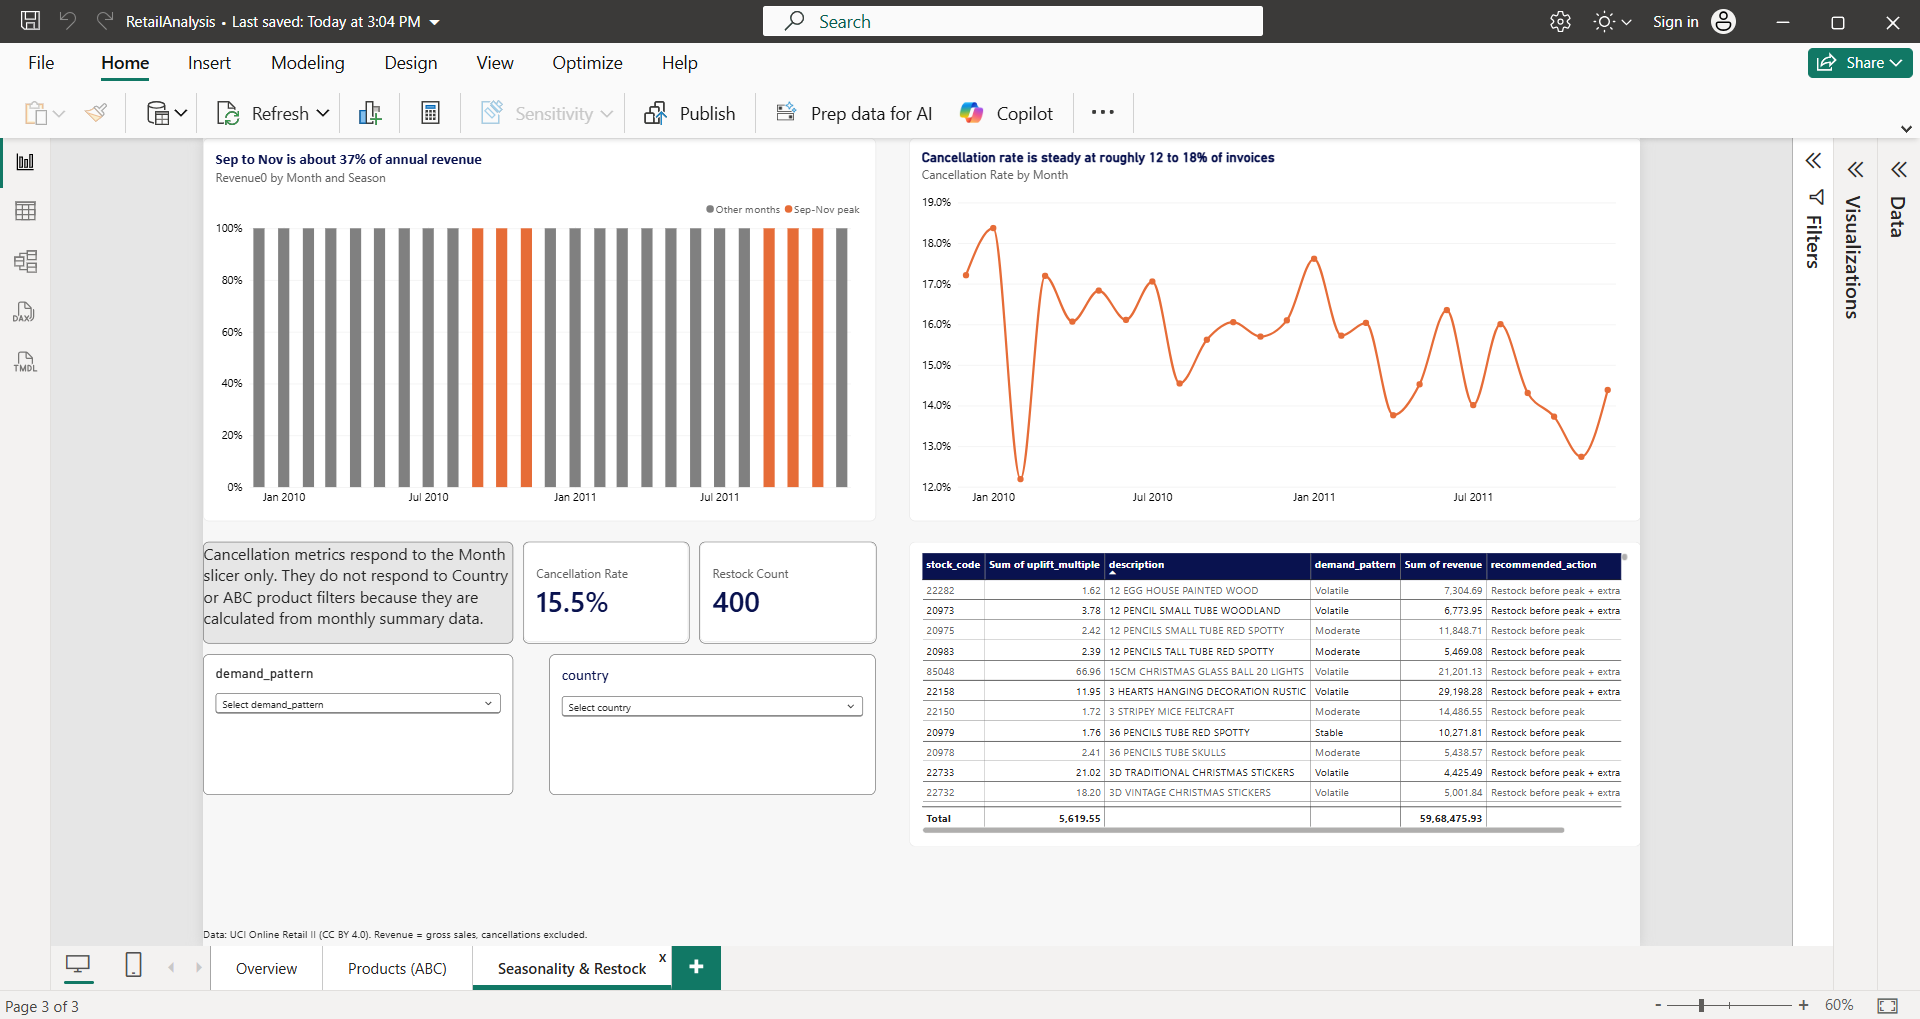

This screenshot's page, from the dashboard's own definition file:
{"tool":"powerbi","page":{"name":"Seasonality & Restock","canvas":[1920,1080],"ordinal":2},"visuals":[{"type":"hundredPercentStackedColumnChart","title":"Sep to Nov is about 37% of annual revenue","fields":{"Category":["DateTable.Month"],"Series":["DateTable.Season"],"Y":["v_sales_fact.Revenue0"]},"box":[0,0,899.4,512.1],"z":0},{"type":"lineChart","title":"Cancellation rate is steady at roughly 12 to 18% of invoices","fields":{"Category":["DateTable.Month"],"Y":["v_sales_fact.Cancellation Rate"]},"box":[942.8,0,977.2,512.1],"z":1000},{"type":"cardVisual","fields":{"Data":["v_sales_fact.Cancellation Rate"]},"box":[427.1,539.3,222.6,135.7],"z":2000},{"type":"tableEx","fields":{"Values":["v_restock_priority.stock_code","Sum(v_restock_priority.uplift_multiple)","v_restock_priority.description","v_restock_priority.demand_pattern","Sum(v_restock_priority.revenue)","v_restock_priority.recommended_action"]},"box":[942.8,539.3,977.2,407.2],"z":3000},{"type":"listSlicer","fields":{"Values":["v_restock_priority.demand_pattern"]},"box":[0,689.5,414.4,188.2],"z":4000},{"type":"textbox","box":[0,539.3,414.4,135.7],"z":5000},{"type":"textbox","box":[0,1053.2,1920.1,27.1],"z":6000},{"type":"listSlicer","fields":{"Values":["v_sales_fact.country"]},"box":[463.3,689.5,436.1,188.2],"z":7000},{"type":"cardVisual","fields":{"Data":["v_restock_priority.Restock Count"]},"box":[662.3,539.3,237.1,135.7],"z":8000}]}

Visuals, with their boxes on the page's 1920x1080 design canvas (x1, y1, x2, y2). These are canvas units, not pixel positions in the 1920x1019 screenshot, which may show the page scaled, cropped or inside an application window:
"Sep to Nov is about 37% of annual revenue" hundredPercentStackedColumnChart: box(0, 0, 899, 512)
"Cancellation rate is steady at roughly 12 to 18% of invoices" lineChart: box(943, 0, 1920, 512)
cardVisual - v_sales_fact.Cancellation Rate: box(427, 539, 650, 675)
tableEx - v_restock_priority.stock_code x Sum(v_restock_priority.uplift_multiple): box(943, 539, 1920, 946)
listSlicer - v_restock_priority.demand_pattern: box(0, 690, 414, 878)
textbox: box(0, 539, 414, 675)
textbox: box(0, 1053, 1920, 1080)
listSlicer - v_sales_fact.country: box(463, 690, 899, 878)
cardVisual - v_restock_priority.Restock Count: box(662, 539, 899, 675)
